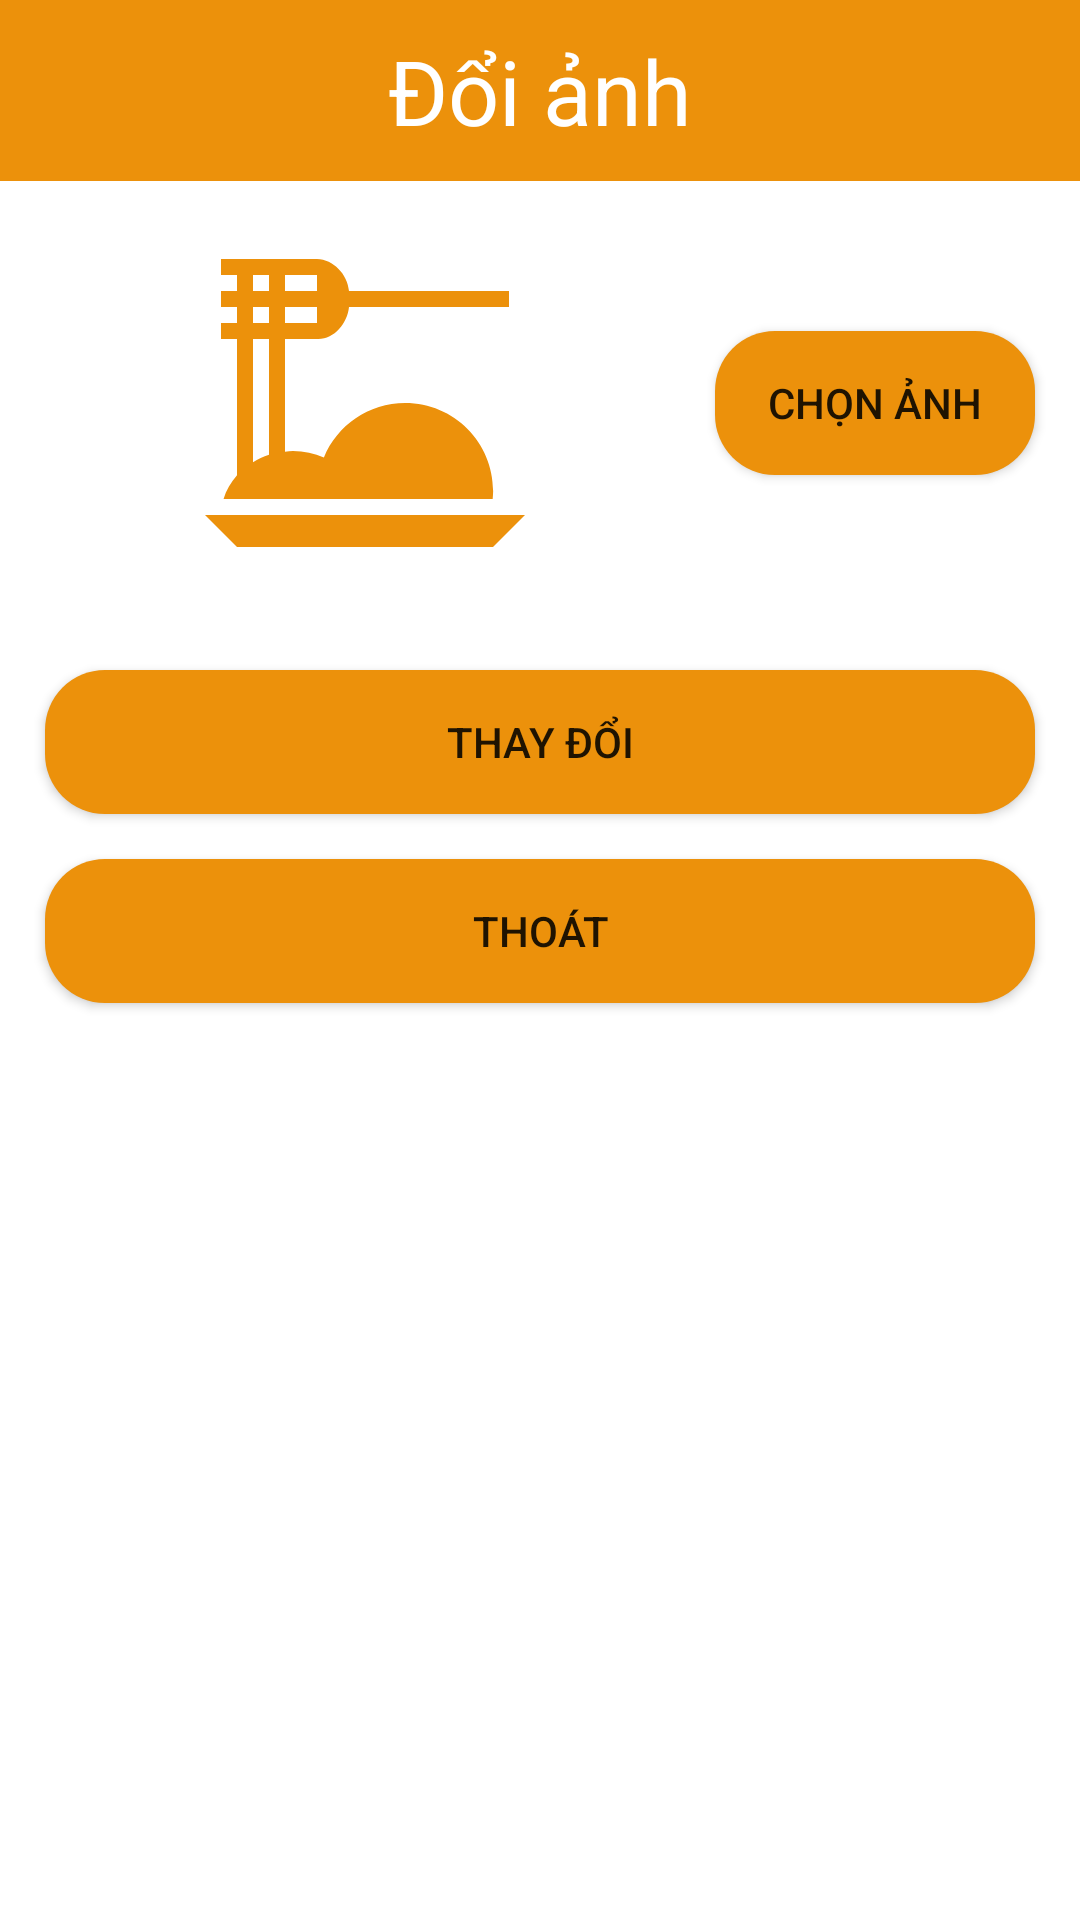

Named icons in this screenshot (1080x1920) and their centers, point (x, y):
food: point (365, 403)
